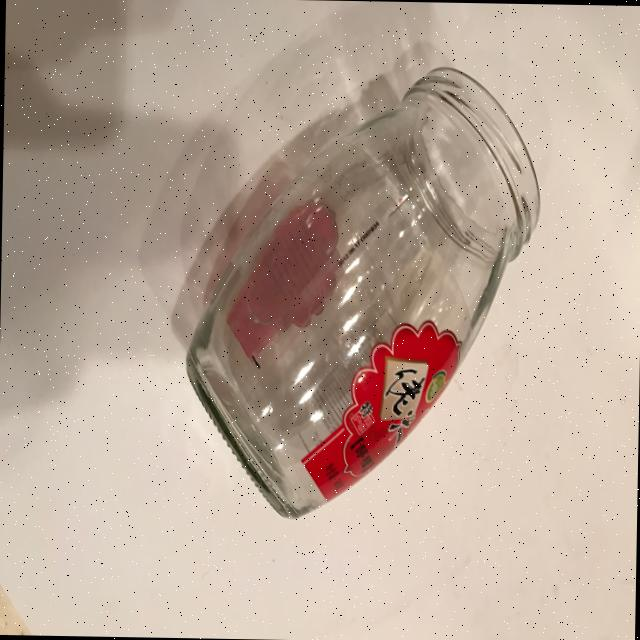glass: (175, 56, 542, 524)
